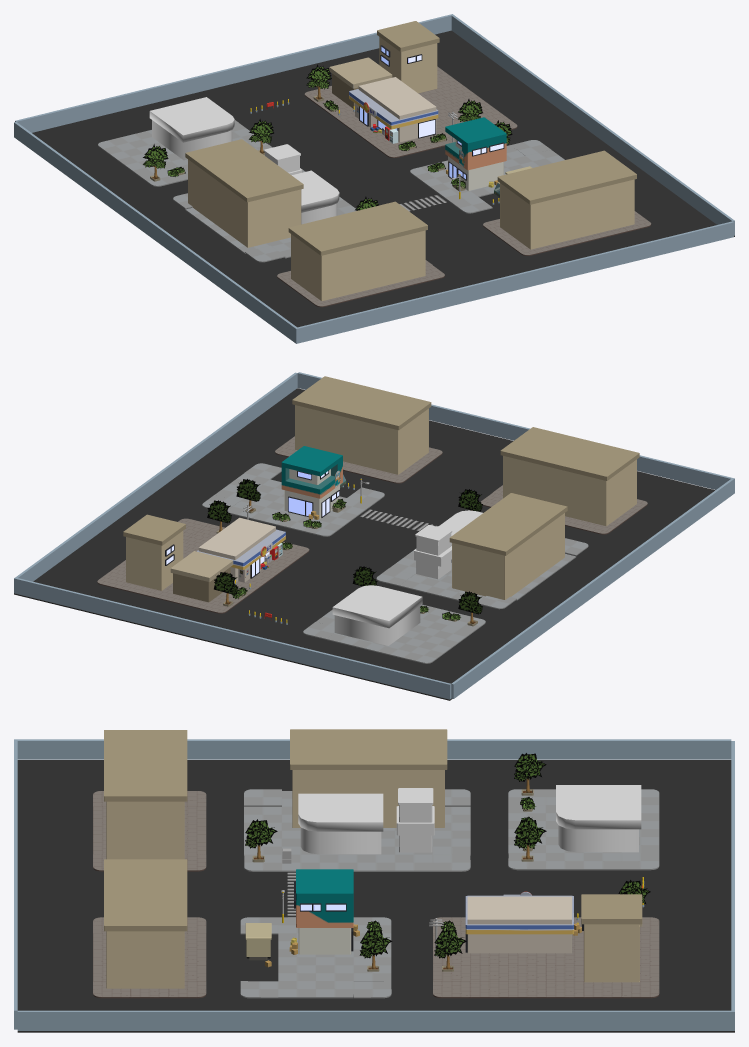
Rendered from City.fbx.
3 renders of one model, top to bottom at view 1: azimuth 30°, elevation 25°; view 2: azimuth 150°, elevation 25°; view 3: azimuth 270°, elevation 25°, orthographic. The views are drawn at different scales.
Parts seen in each view (by area): view 1: road.001, building.003, building.002, building.004, Wall.003, Wall.001, Wall, Wall.002, brick road.009, ikea, 6-7, building (+9 smaller); view 2: road.001, building.002, building.003, building.004, Wall.001, Wall, Wall.002, big brick road.008, ikea, big brick road.003, brick road.009, building (+9 smaller); view 3: road.001, Wall.002, building.004, building.002, building.003, brick road.009, Wall, big brick road.015, big brick road.008, 6-7, big brick road.003, ikea (+14 smaller).
Boxes of the visible parts, box(x1,y1,x2,y2) form: road.001: box(32, 30, 734, 327); building.003: box(288, 201, 427, 300); building.002: box(497, 150, 636, 249); building.004: box(185, 139, 303, 247); Wall.003: box(295, 221, 733, 343); Wall.001: box(15, 14, 453, 132); Wall: box(14, 122, 296, 342); Wall.002: box(451, 15, 734, 235); brick road.009: box(304, 66, 517, 157); ikea: box(149, 97, 234, 160); 6-7: box(349, 77, 438, 142); building: box(377, 21, 439, 93); road.001: box(14, 388, 715, 700); building.002: box(292, 376, 431, 474); building.003: box(500, 427, 639, 526); building.004: box(449, 493, 567, 599); Wall.001: box(14, 577, 451, 699); Wall: box(451, 479, 733, 698); Wall.002: box(15, 372, 297, 581); big brick road.008: box(202, 463, 384, 536); ikea: box(332, 585, 422, 645); big brick road.003: box(303, 604, 485, 663); brick road.009: box(97, 518, 309, 613); building: box(123, 514, 185, 590); road.001: box(17, 760, 734, 1032); Wall.002: box(17, 1010, 731, 1030); building.004: box(290, 729, 447, 827); building.002: box(104, 859, 187, 988); building.003: box(104, 730, 187, 859); brick road.009: box(433, 917, 659, 998); Wall: box(17, 739, 731, 759); big brick road.015: box(244, 789, 470, 871); big brick road.008: box(240, 917, 391, 998); 6-7: box(465, 891, 573, 953); big brick road.003: box(508, 789, 659, 870); ikea: box(556, 785, 641, 852).
Size of the model in its own units: 8547 by 1001 by 9547.
19 materials, 11 textured.
